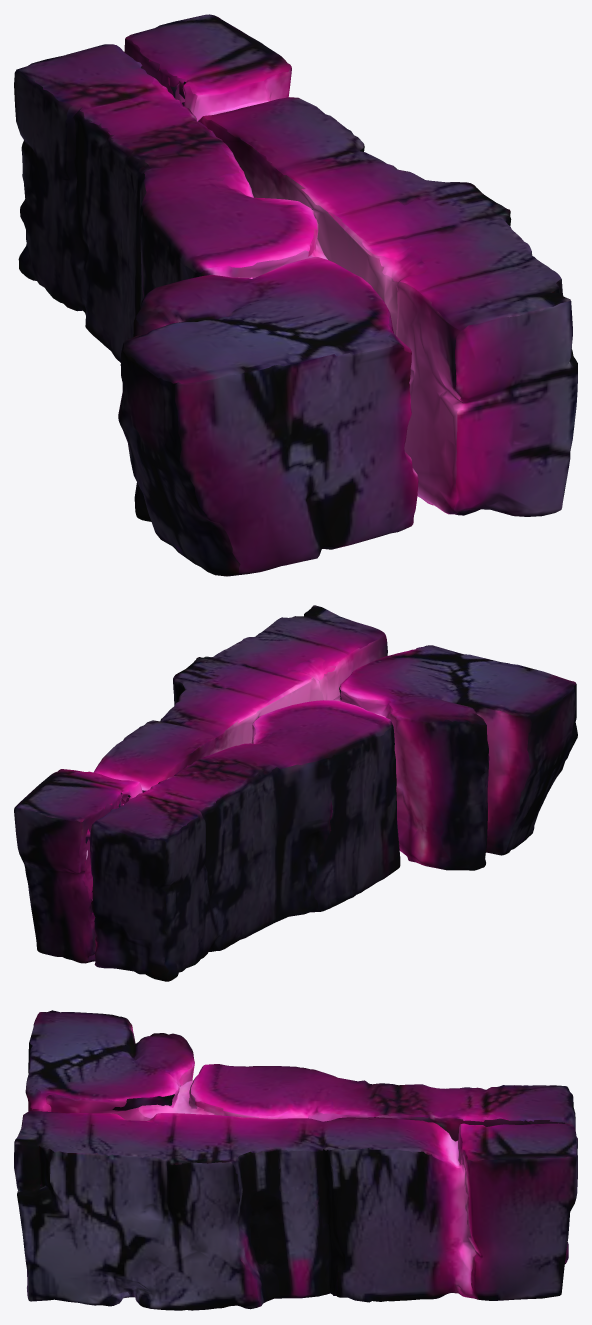
Rendered from shelf-break-3-generated-2026-05-17T20-41-08-791Z.low.glb.
3 renders of one model, top to bottom at view 1: azimuth 30°, elevation 25°; view 2: azimuth 150°, elevation 25°; view 3: azimuth 270°, elevation 25°, orthographic. The views are drawn at different scales.
Parts seen in each view (by area): view 1: temp_mesh.ply; view 2: temp_mesh.ply; view 3: temp_mesh.ply.
Boxes of the visible parts, left/top/right/bottom form: temp_mesh.ply: left=14, top=14, right=577, bottom=576; temp_mesh.ply: left=14, top=605, right=577, bottom=981; temp_mesh.ply: left=14, top=1010, right=577, bottom=1310.
Size of the model in its own units: 1.27 by 0.6159 by 1.97.
Materials: 1 (1 with a texture image).
